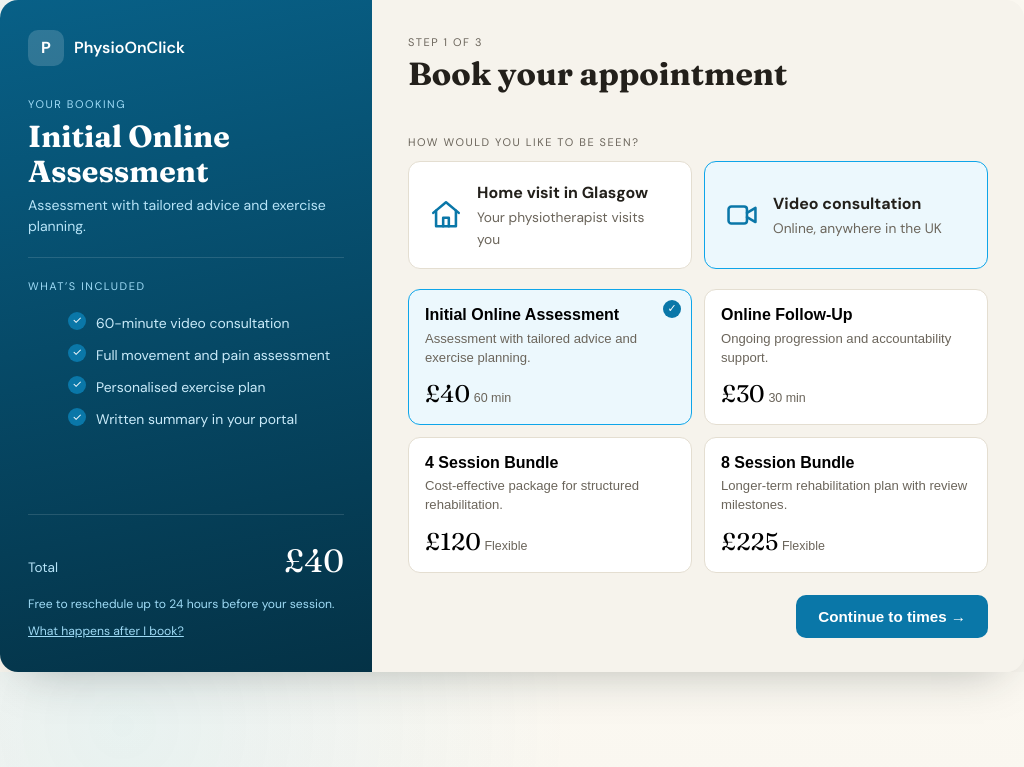
Test case: booking address book › lists saved addresses and preselects the usual one
Click the radio button labelled "Home visit in Glasgow Your physiotherapist visits you": (550, 215) left=408, top=161, right=692, bottom=269
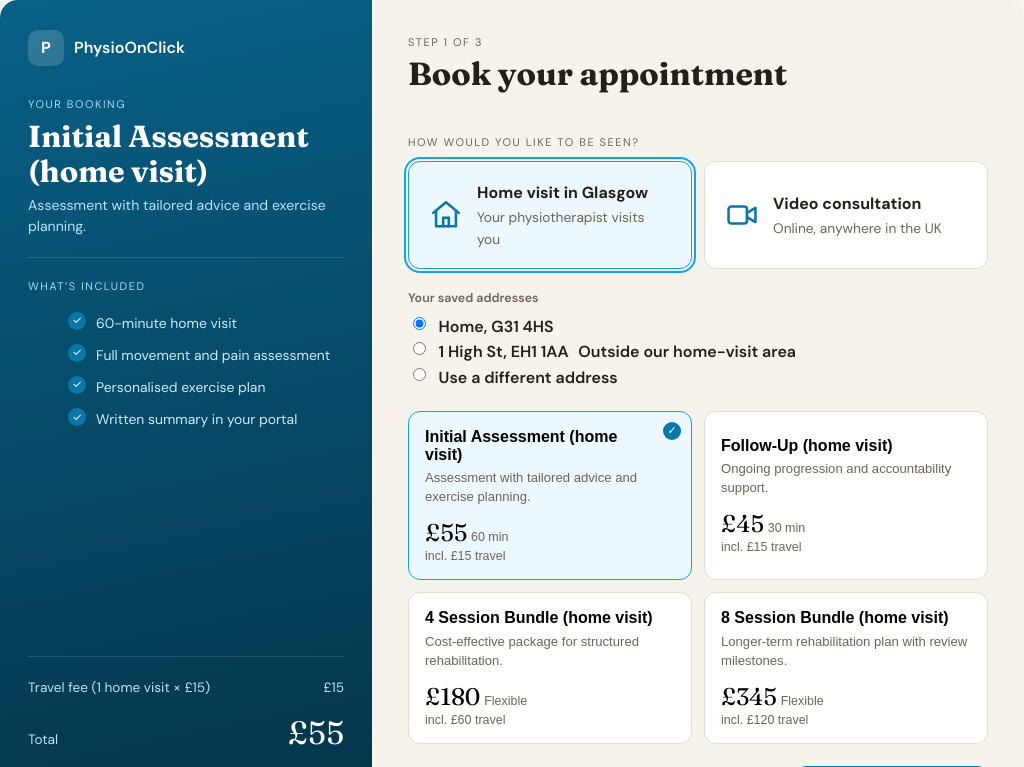
Expected: the element named "Your saved addresses" is shown, left=413, top=316, right=796, bottom=388
Expected: the radio button labelled "Home, G31 4HS" is checked, left=413, top=317, right=426, bottom=330
Expected: the radio button labelled "Use a different address" is not checked, left=413, top=368, right=426, bottom=381
